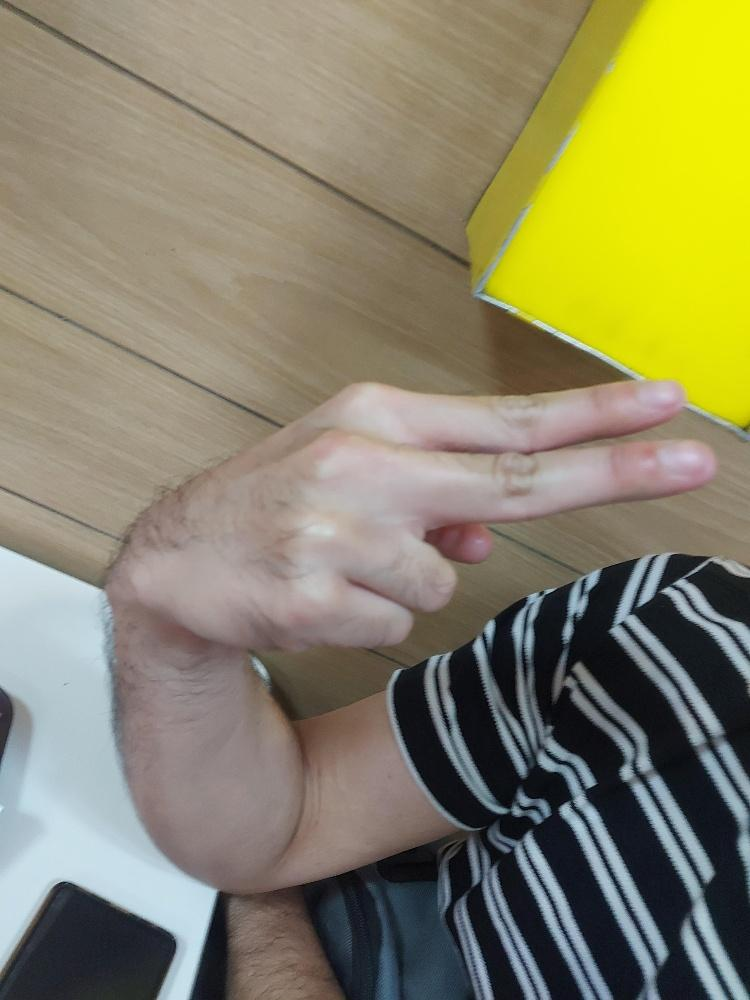h: (137, 373, 717, 654)
